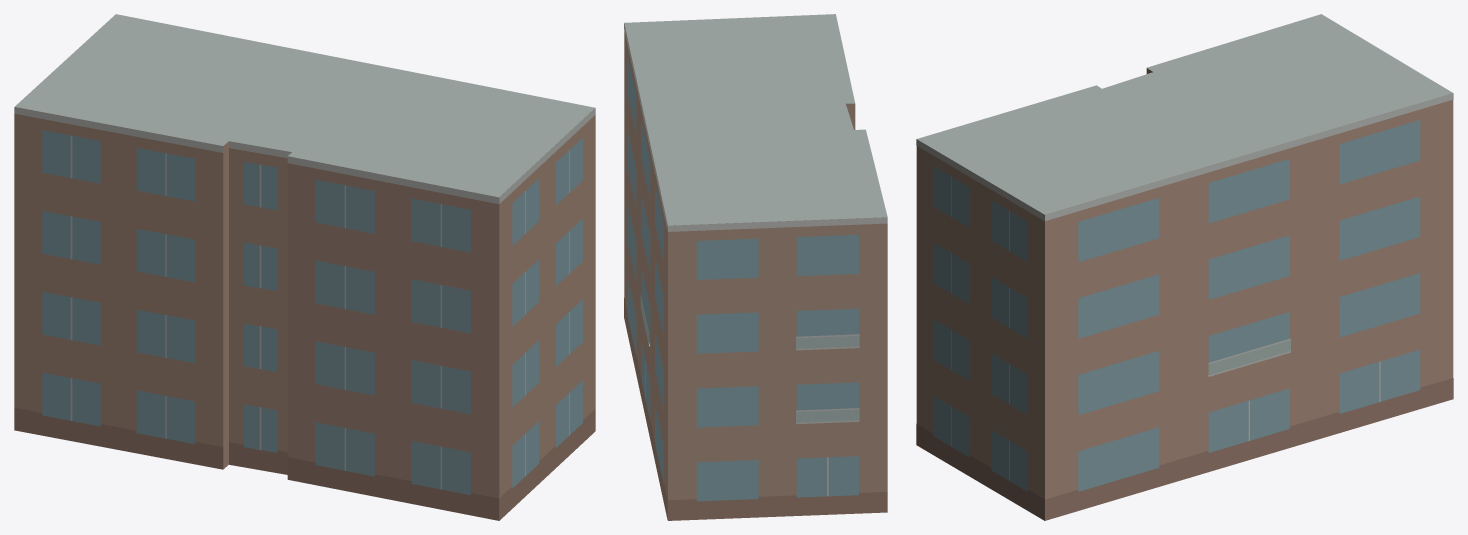
The model's file is survey-upis-32799790.glb.
3 views of the same model, side by side, from view 1: azimuth 30°, elevation 25°; view 2: azimuth 150°, elevation 25°; view 3: azimuth 270°, elevation 25° (orthographic). The views are drawn at different scales.
Visible parts, largest first — view 1: survey-upis-32799790.tmp; view 2: survey-upis-32799790.tmp; view 3: survey-upis-32799790.tmp.
Part boxes in pixels (bbox=[...]): survey-upis-32799790.tmp: bbox=[14, 14, 595, 520]; survey-upis-32799790.tmp: bbox=[624, 14, 887, 520]; survey-upis-32799790.tmp: bbox=[916, 14, 1453, 520].
Bounding box in the file's own units: 16.19 × 11.5 × 18.29.
